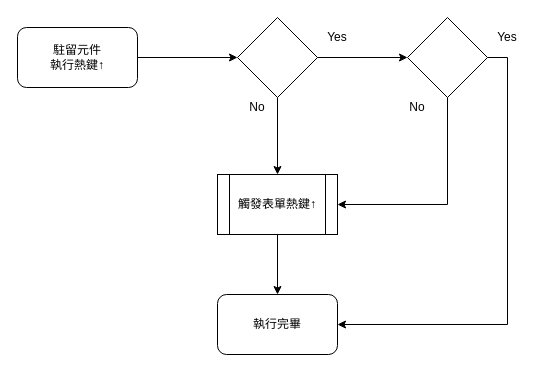
This 545x372 diagram has some shape labels left out. The shapes that lost their labels are listed below. From the top down, each one's centre as x and y in pixels, then its label:
the point at 277,57: 編輯狀態
the point at 447,57: 有開啟 下拉清單
